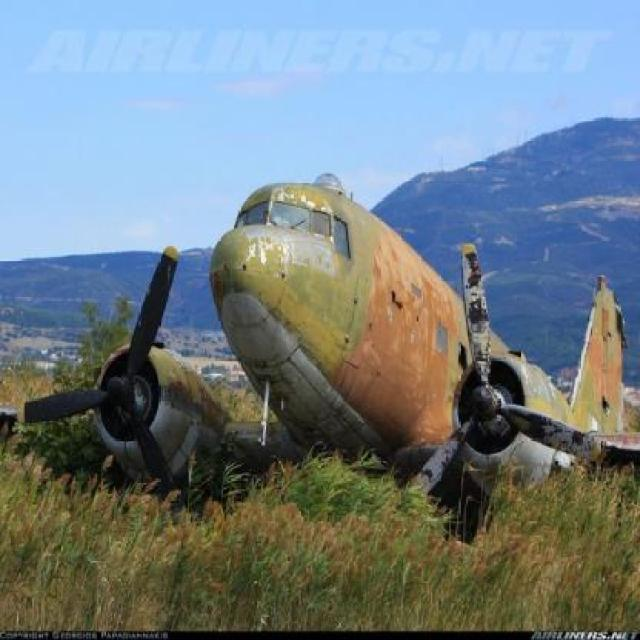corrosion: (23, 171, 634, 484)
